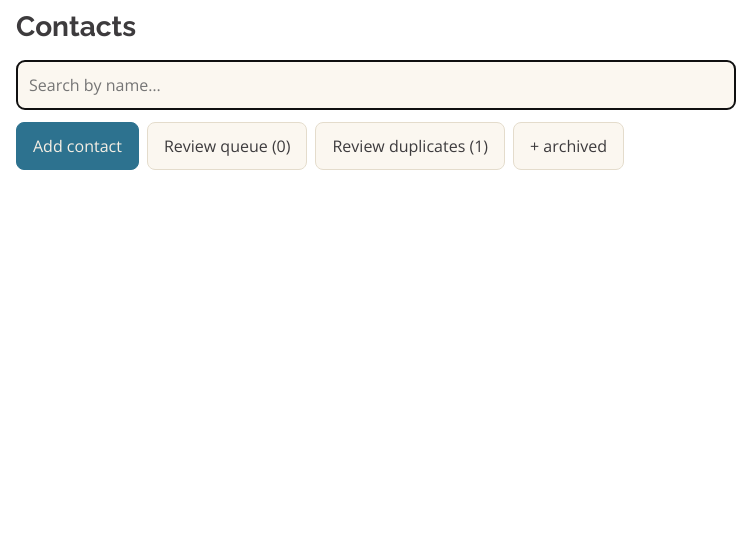
Test: phone + email per candidate on the duplicates row (033 US1) › shows dashed phone + email, and no-phone/no-email when absent; merge controls stay
This screenshot has width=753, height=552.
Click the button "Review duplicates (1)": (410, 146) [316, 122, 505, 170]
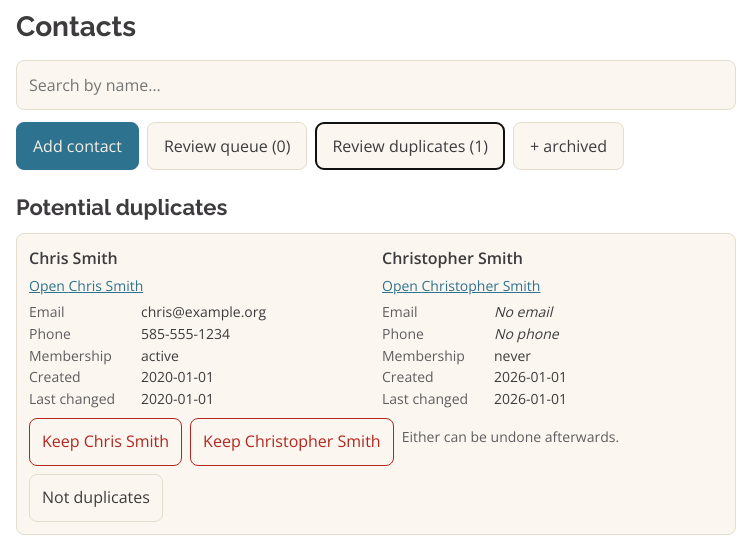
Check: the text "585-555-1234" is shown, box [141, 323, 230, 345]
Check: the text "chris@example.org" is shown, box [141, 301, 266, 323]
Check: the text "No phone" is shown, box [494, 324, 559, 343]
